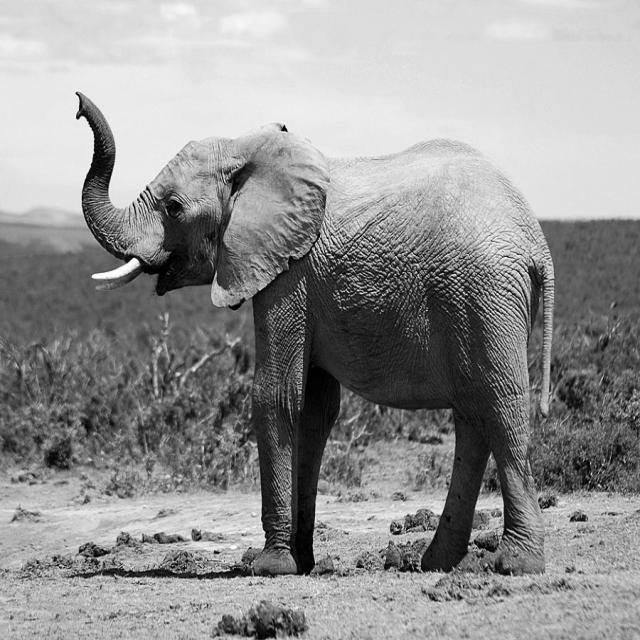Elephant: (74, 89, 555, 578)
